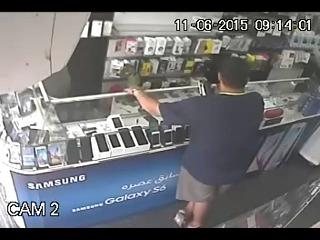Normal: (143, 62, 143, 62)
shoplifting: (122, 59, 269, 227)
